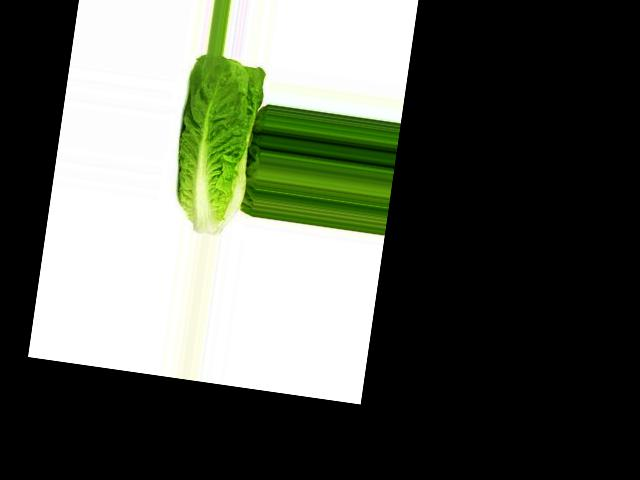lettuce: (154, 92, 258, 213)
